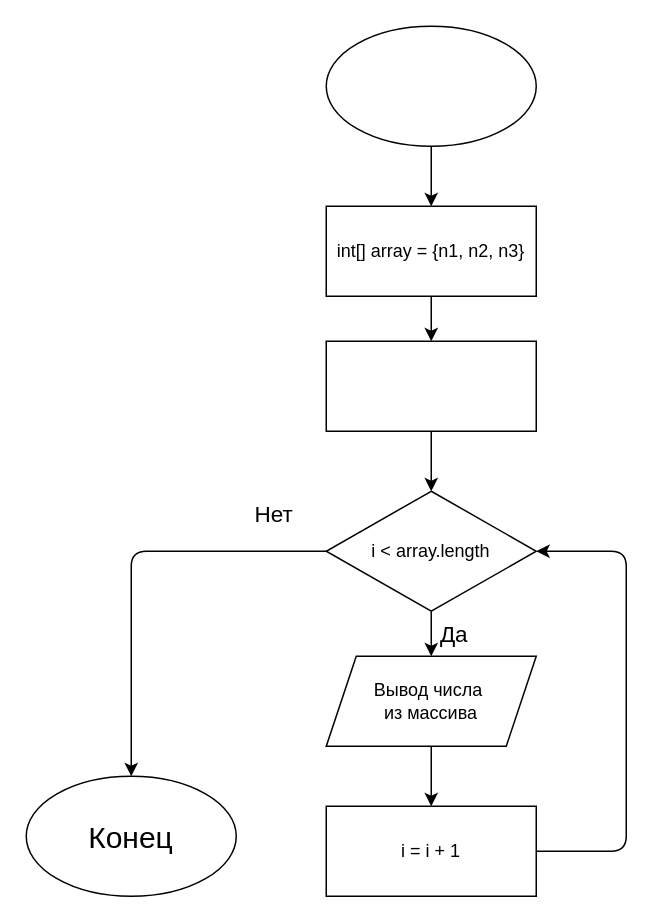
Image size: 665x923. Some labels were removed from this diagram. Each missing label, with the centre of its shape:
"i = 0" goes at [430,385].
"Начало" goes at [430,85].
